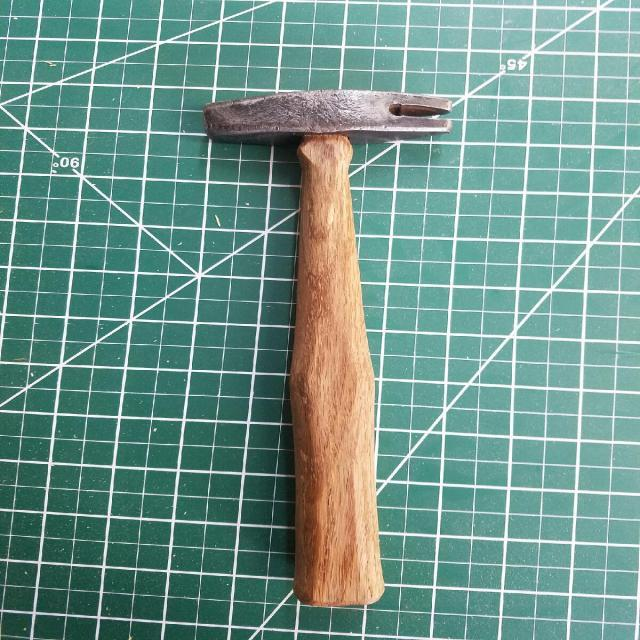hammer: (192, 84, 460, 610)
